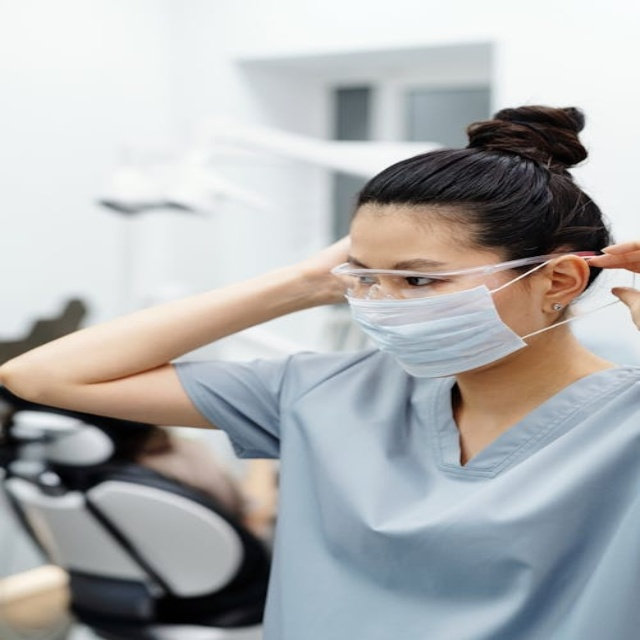Gafas: (330, 250, 601, 303)
Mascara: (341, 258, 554, 379)
